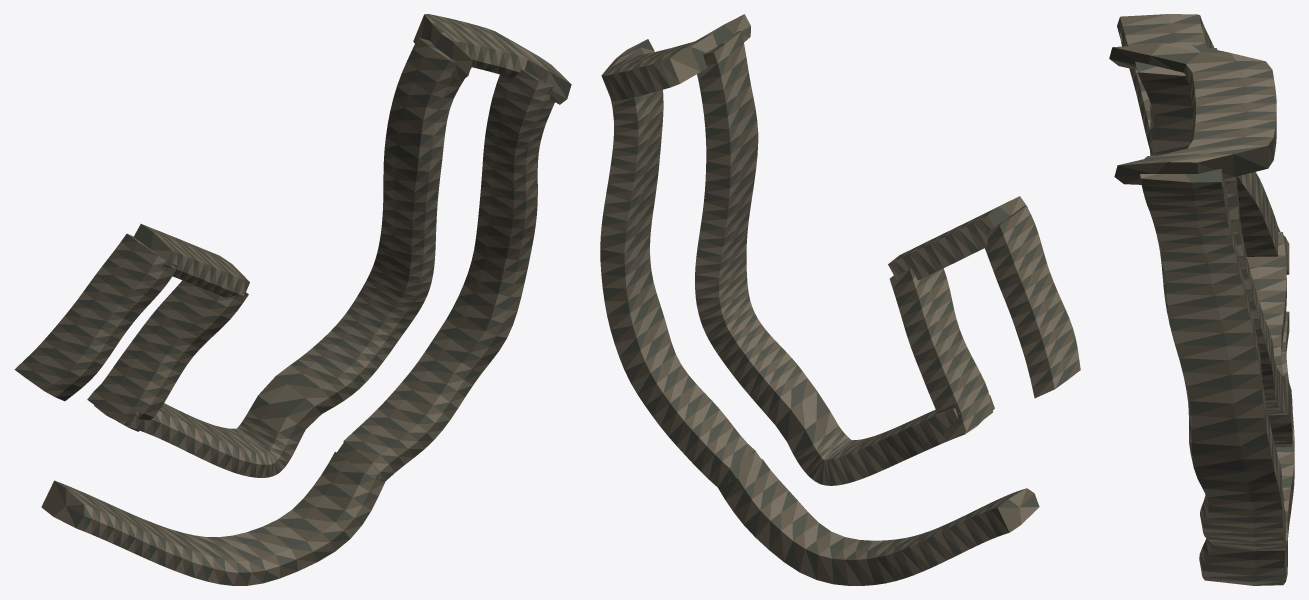
The model's file is route_corridors.obj.
3 views of the same model, side by side, from view 1: azimuth 30°, elevation 25°; view 2: azimuth 150°, elevation 25°; view 3: azimuth 270°, elevation 25° (orthographic). The views are drawn at different scales.
Parts seen in each view (by area): view 1: natural_rock_corridors; view 2: natural_rock_corridors; view 3: natural_rock_corridors.
Part boxes in pixels (x1=…): natural_rock_corridors: x1=14, y1=14, x2=571, y2=585; natural_rock_corridors: x1=600, y1=14, x2=1080, y2=585; natural_rock_corridors: x1=1109, y1=14, x2=1294, y2=585.
Size of the model in its own units: 26.86 by 26.66 by 7.24.
